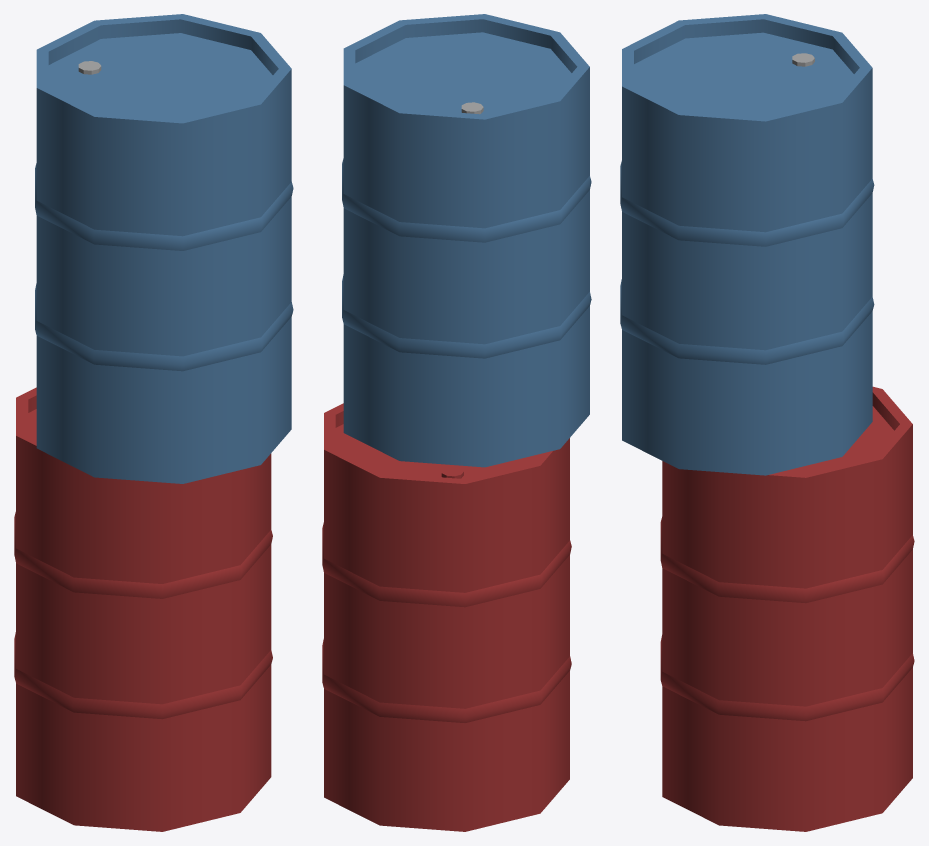
Rendered from drum.fbx.
3 views of the same model, side by side, from view 1: azimuth 30°, elevation 25°; view 2: azimuth 150°, elevation 25°; view 3: azimuth 270°, elevation 25° (orthographic). The views are drawn at different scales.
Parts seen in each view (by area): view 1: Cylinder.005, Cylinder.003; view 2: Cylinder.005, Cylinder.003; view 3: Cylinder.005, Cylinder.003.
Part boxes in pixels (x1,y1,x2,y2): Cylinder.005: (35,14,293,483); Cylinder.003: (14,387,272,831); Cylinder.005: (342,14,591,467); Cylinder.003: (322,403,571,831); Cylinder.005: (620,14,874,475); Cylinder.003: (660,386,914,831).
Size of the model in its own units: 49.17 by 149 by 56.1.
